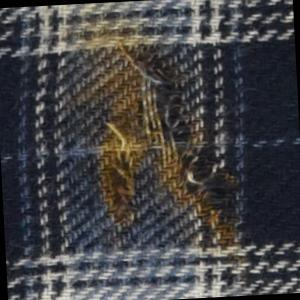Damage: (95, 31, 247, 238)
Oil Stain: (43, 1, 254, 275)
